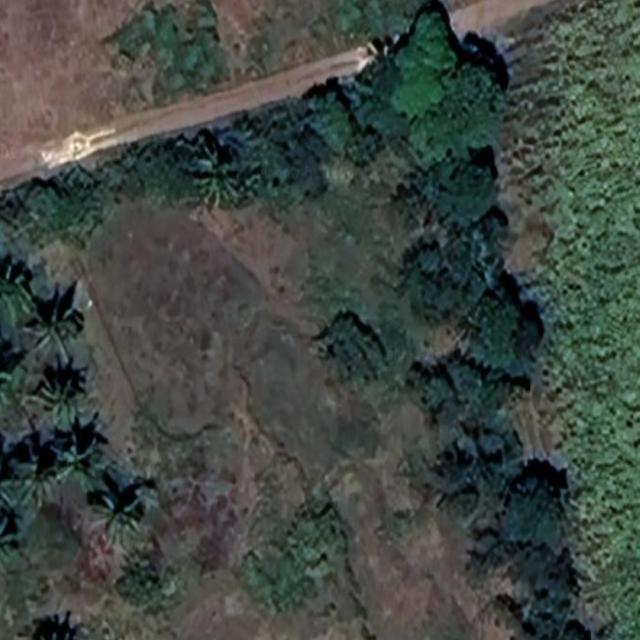Tree: (403, 57, 509, 170), (406, 215, 479, 335), (382, 0, 456, 118), (493, 456, 569, 558), (420, 152, 496, 226), (512, 542, 582, 619), (316, 314, 383, 392), (462, 281, 518, 372), (184, 132, 246, 214), (85, 473, 142, 550), (24, 281, 77, 362), (43, 425, 102, 496), (500, 305, 549, 389), (35, 360, 89, 435), (306, 77, 349, 148), (9, 430, 50, 504), (468, 409, 517, 469), (404, 360, 454, 416), (430, 440, 476, 491), (0, 256, 30, 333), (446, 346, 485, 404), (528, 615, 601, 640), (0, 442, 25, 515), (445, 483, 482, 527), (346, 122, 379, 167), (0, 510, 21, 573), (28, 620, 82, 640), (0, 348, 16, 415)
